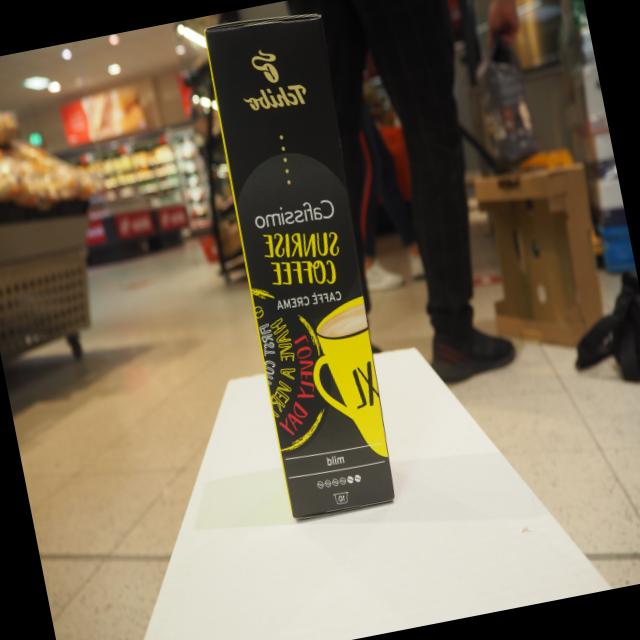Simo Sunrise: (204, 11, 396, 523)
